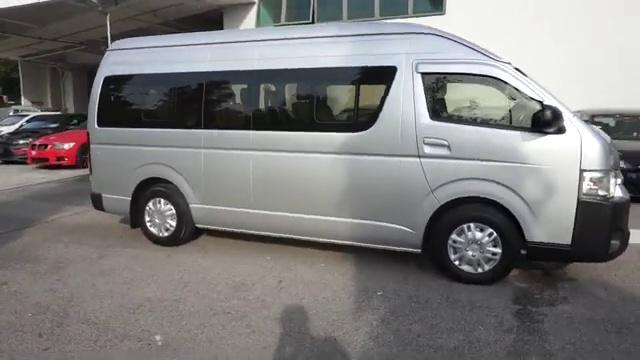Van: (83, 22, 628, 279)
